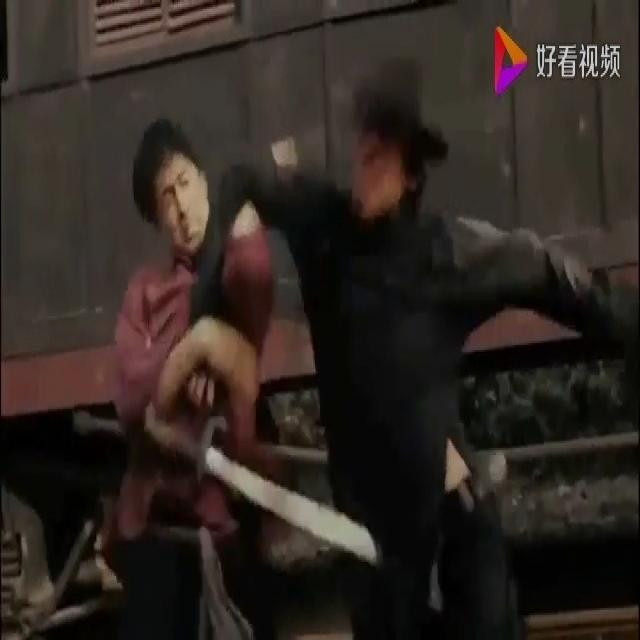fight: (83, 34, 620, 638)
